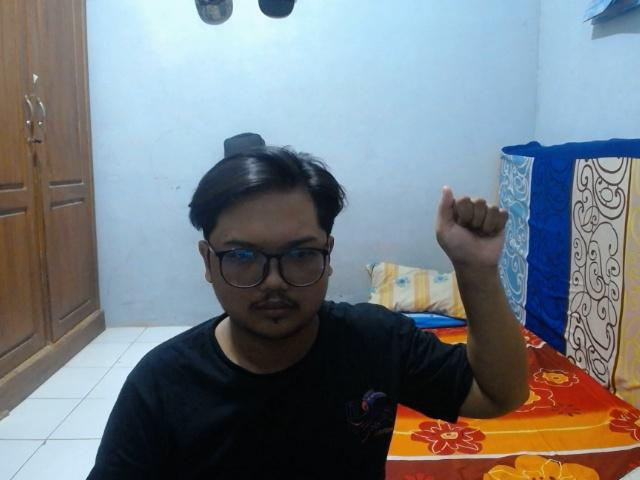Grab: (431, 187, 518, 277)
